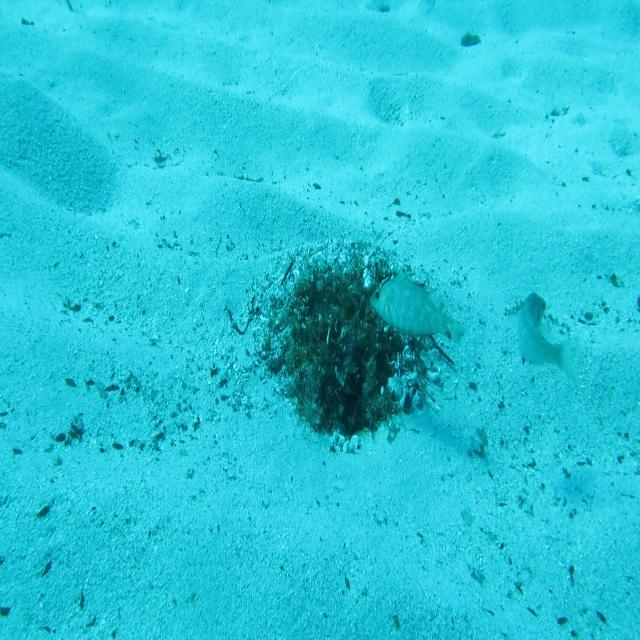ROLL: (369, 261, 470, 345)
core_nest: (319, 285, 367, 324)
female: (505, 286, 583, 388)
nest: (246, 224, 457, 459)
vegetation: (461, 28, 484, 48)
